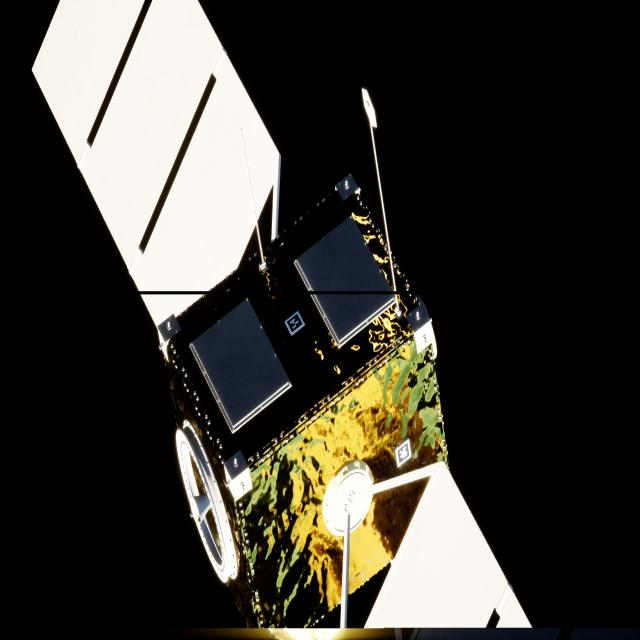satellite: (33, 0, 528, 632)
